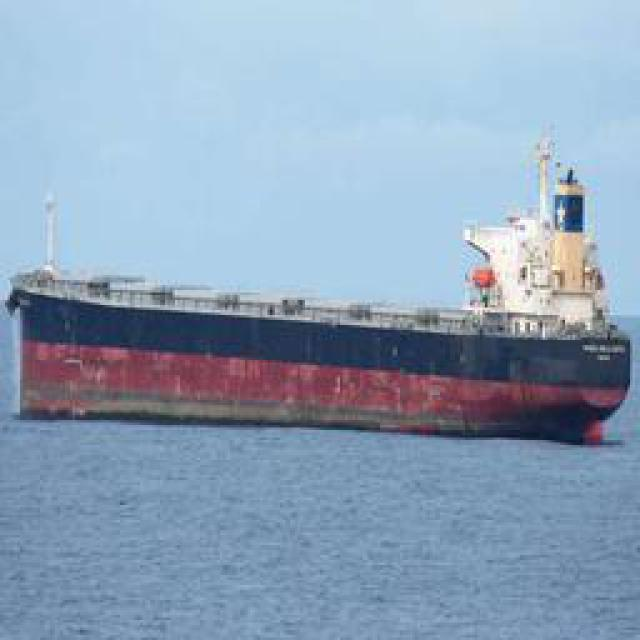Ship: (16, 136, 626, 446)
